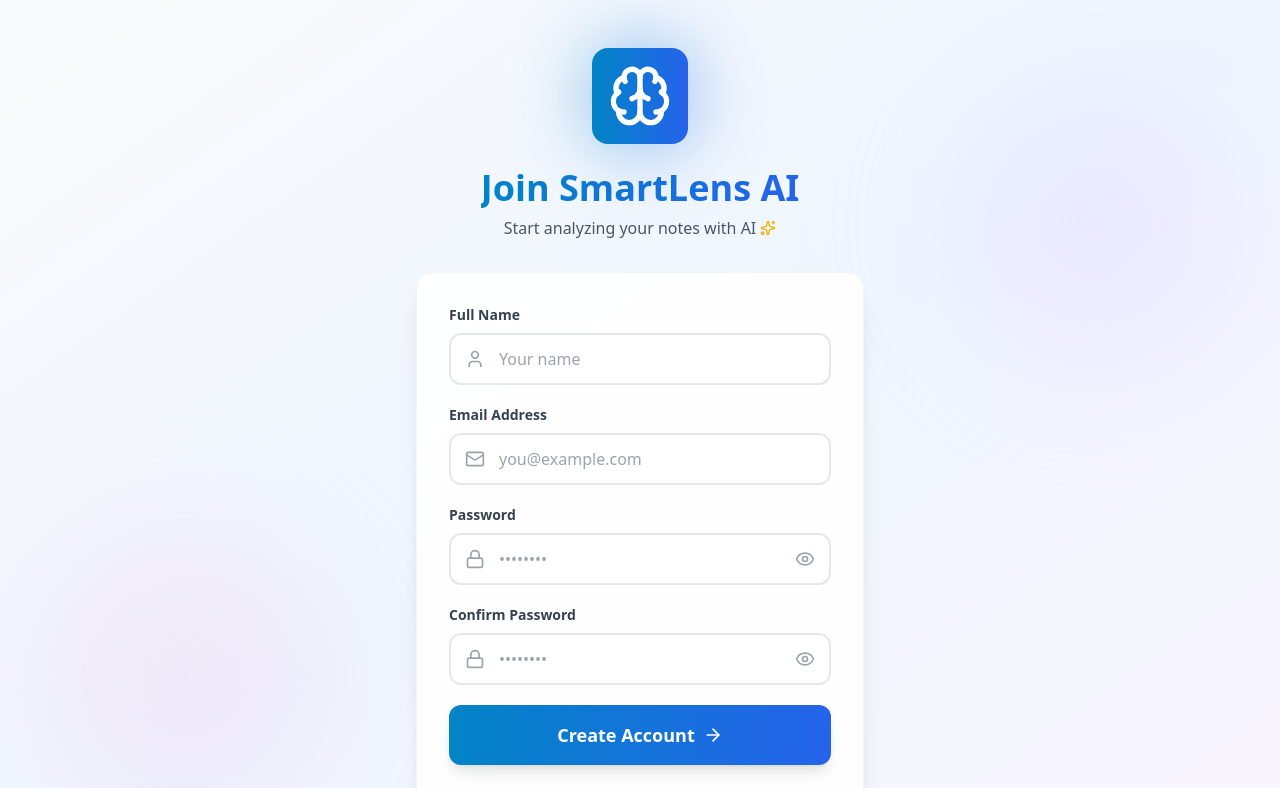
Test: Signup Component › Error Handling › should display error message on failed signup
Type "John Doe" into the field labelled "Full Name" at (640, 359), box x1=449 y1=333 x2=831 y2=385
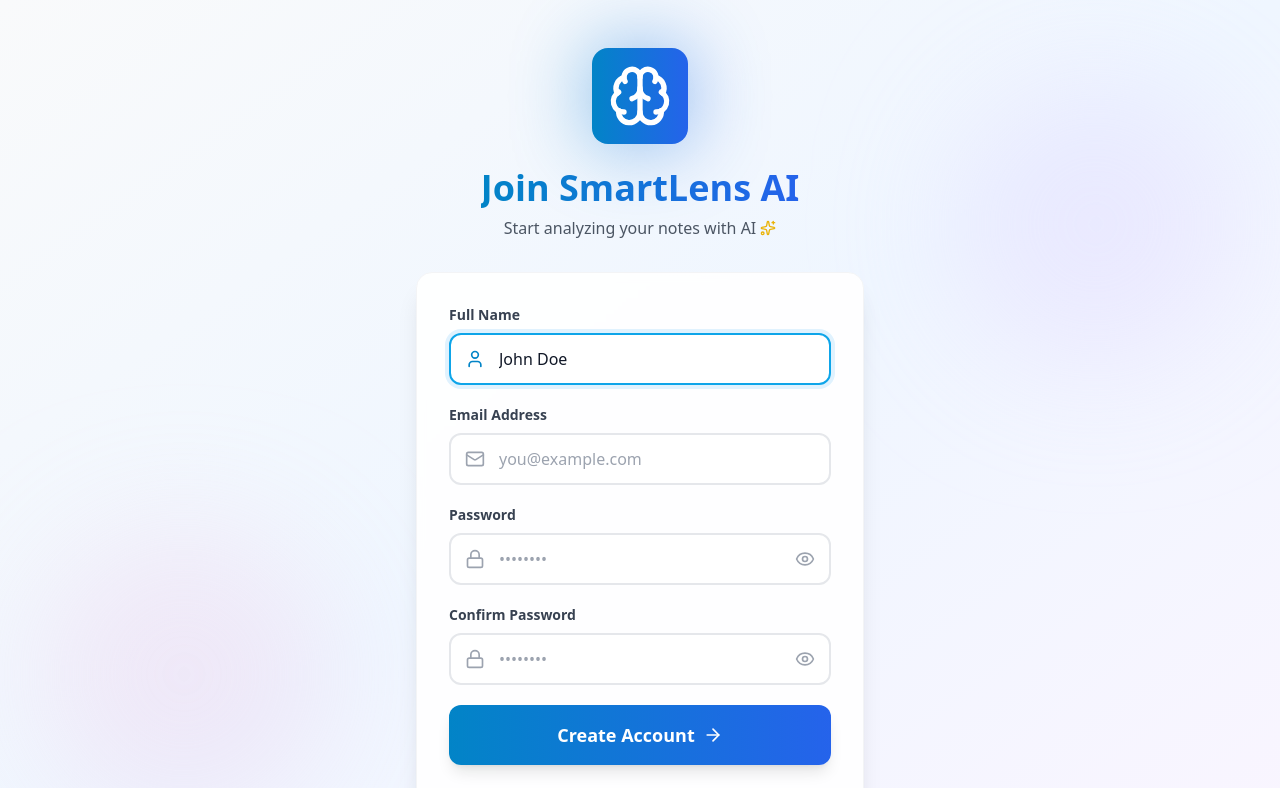
Type "existing@example.com" into the field labelled "Email Address" at (640, 459), box x1=449 y1=433 x2=831 y2=485
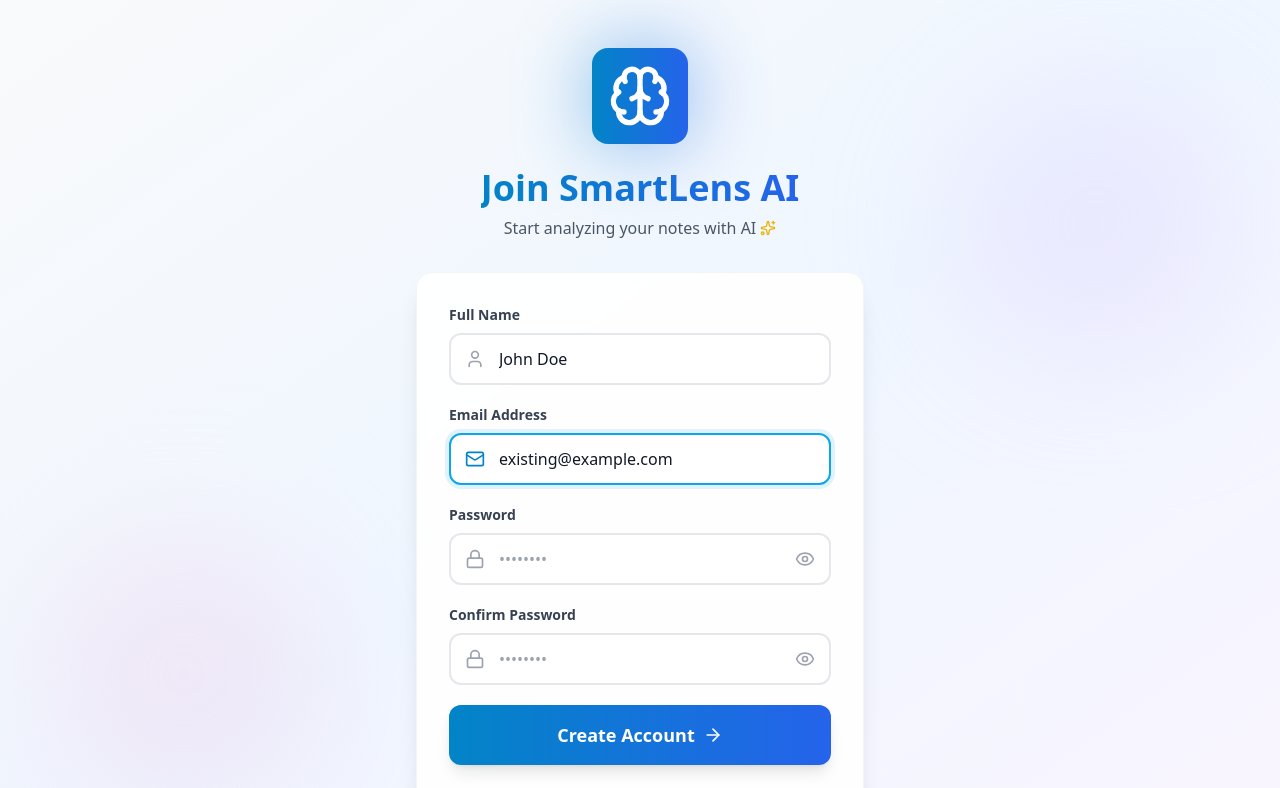
Type "password123" into the password field labelled "Password" at (640, 559), box x1=449 y1=533 x2=831 y2=585
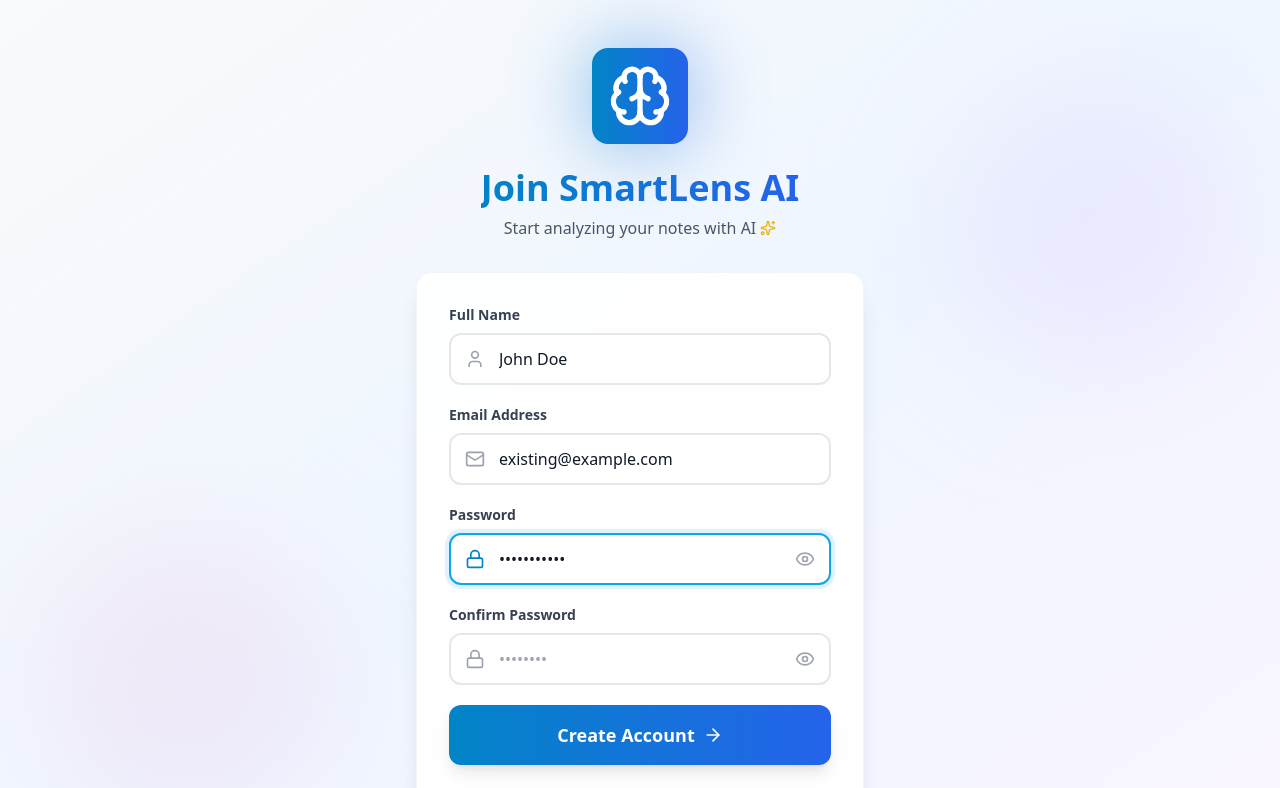
Type "password123" into the password field labelled "Confirm Password" at (640, 659), box x1=449 y1=633 x2=831 y2=685
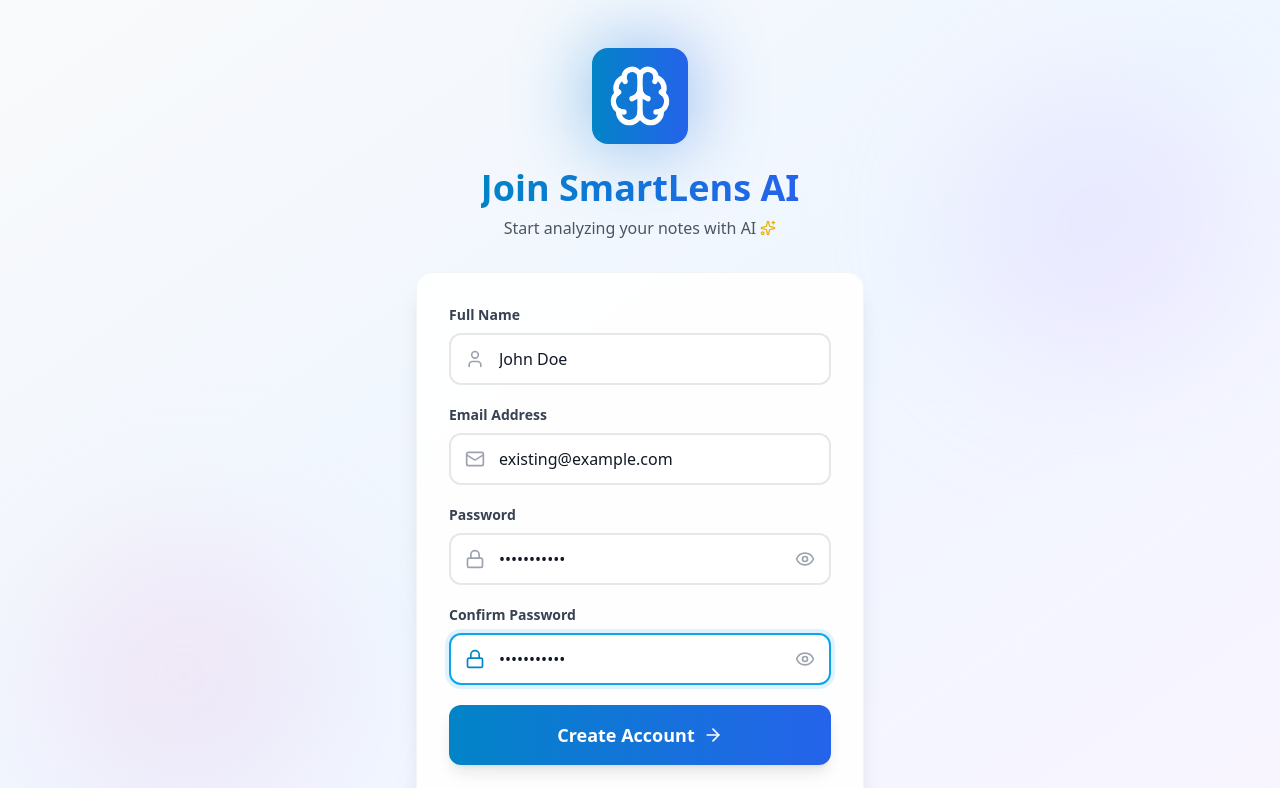
Click the button "Create Account" at (640, 735), box x1=449 y1=705 x2=831 y2=765
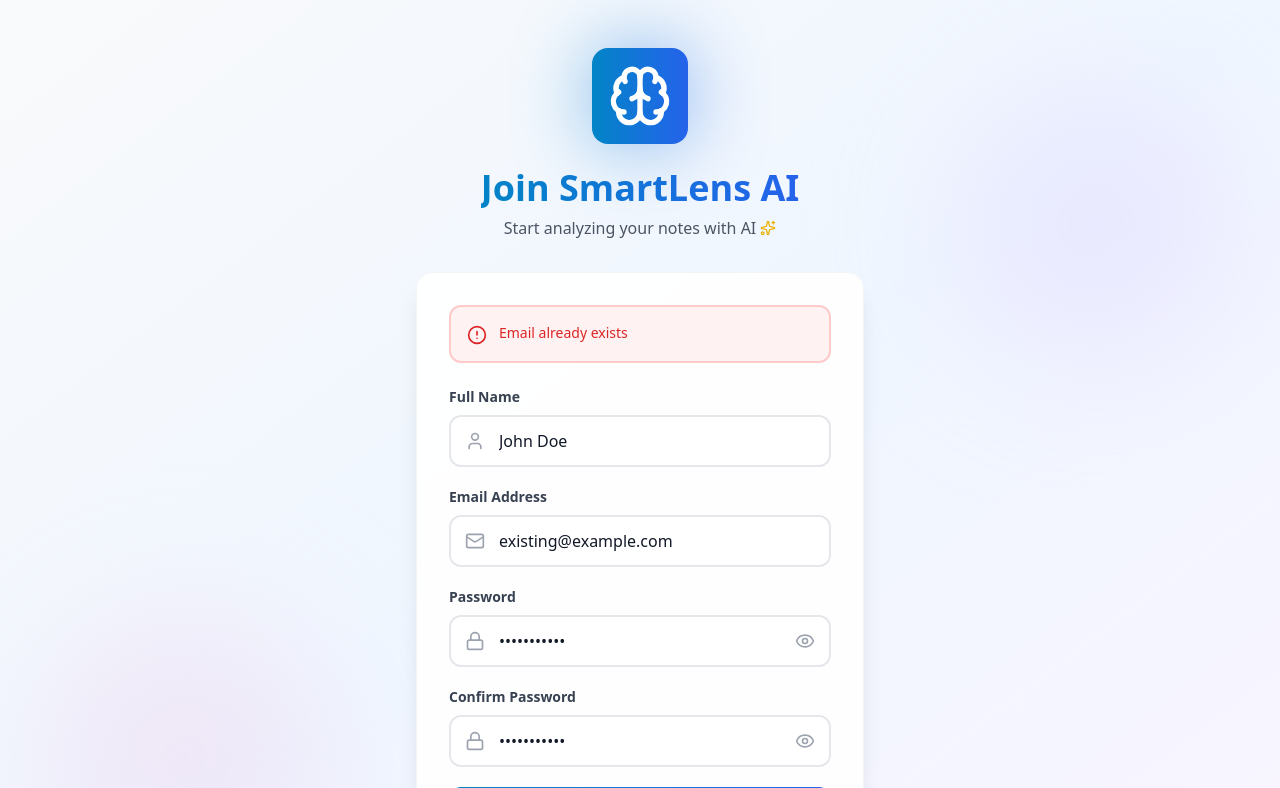
Expected: the text "Email already exists" is shown, x1=499 y1=323 x2=628 y2=343
